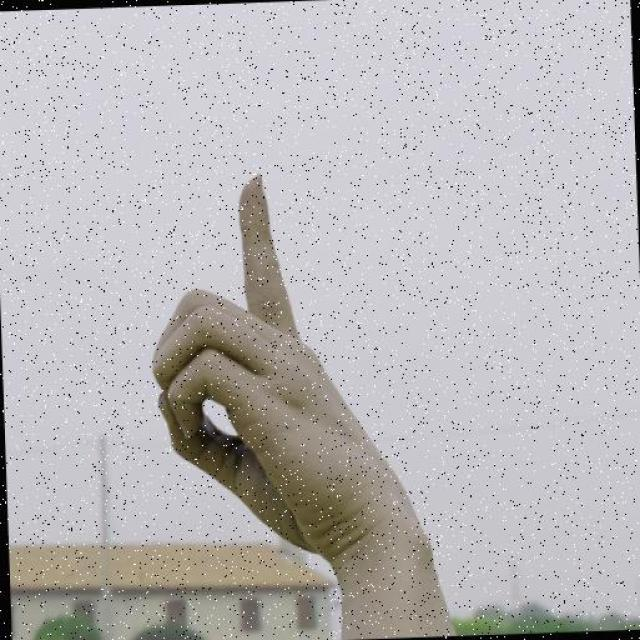D: (140, 157, 438, 583)
